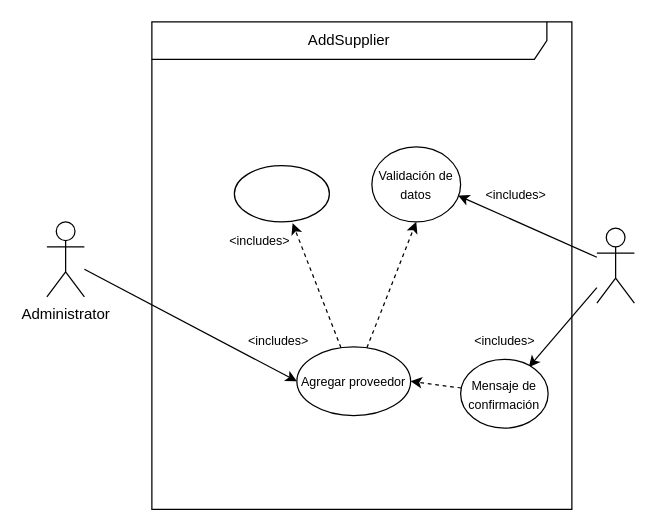
This 663x531 diagram has some shape labels left out. Here are the shapes that lost their labels. From the top down, the box of each, then its label:
(233, 164, 329, 222): Registrar al proveedor
(596, 227, 634, 303): System
